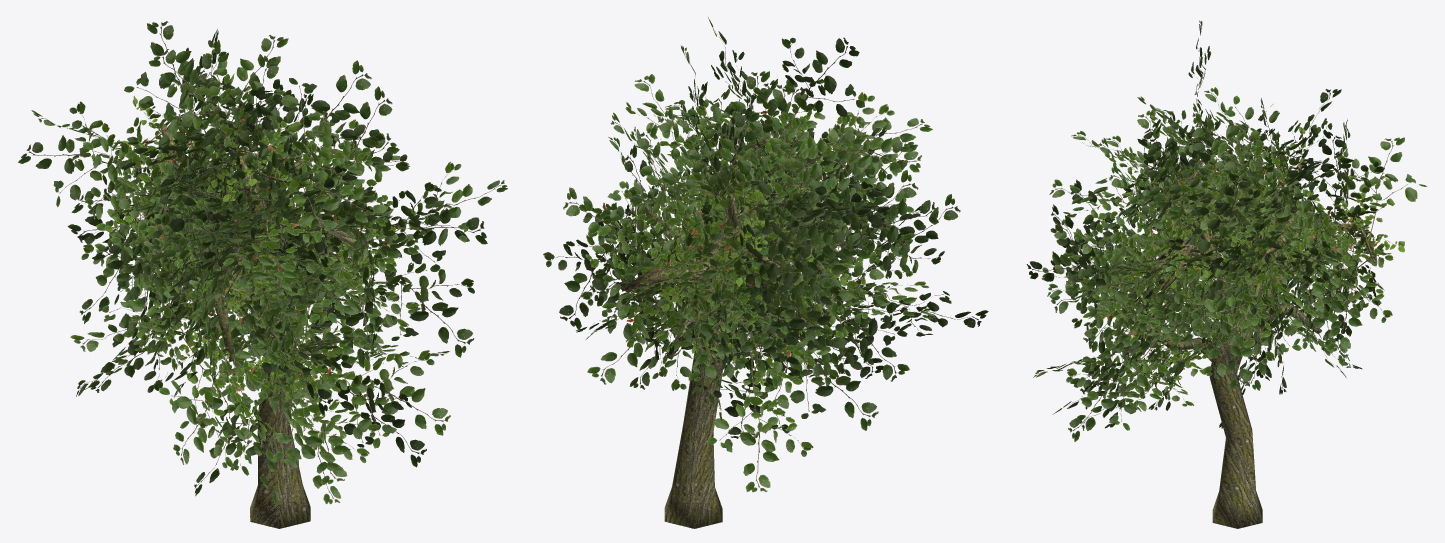
File: tree_lowpoly_g.glb
3 renders of one model, left to right at view 1: azimuth 30°, elevation 25°; view 2: azimuth 150°, elevation 25°; view 3: azimuth 270°, elevation 25°, orthographic. The views are drawn at different scales.
Visible parts, largest first — view 1: Object_3, Object_2; view 2: Object_3, Object_2; view 3: Object_3, Object_2.
Boxes of the visible parts, x1,y1,x2,y2 form: Object_3: (18, 21, 507, 505); Object_2: (149, 123, 360, 528); Object_3: (543, 17, 988, 492); Object_2: (622, 138, 832, 528); Object_3: (1026, 20, 1427, 441); Object_2: (1127, 158, 1376, 528).
Size of the model in its own units: 5.35 by 7.02 by 5.86.
Materials: 2 (2 with a texture image).
